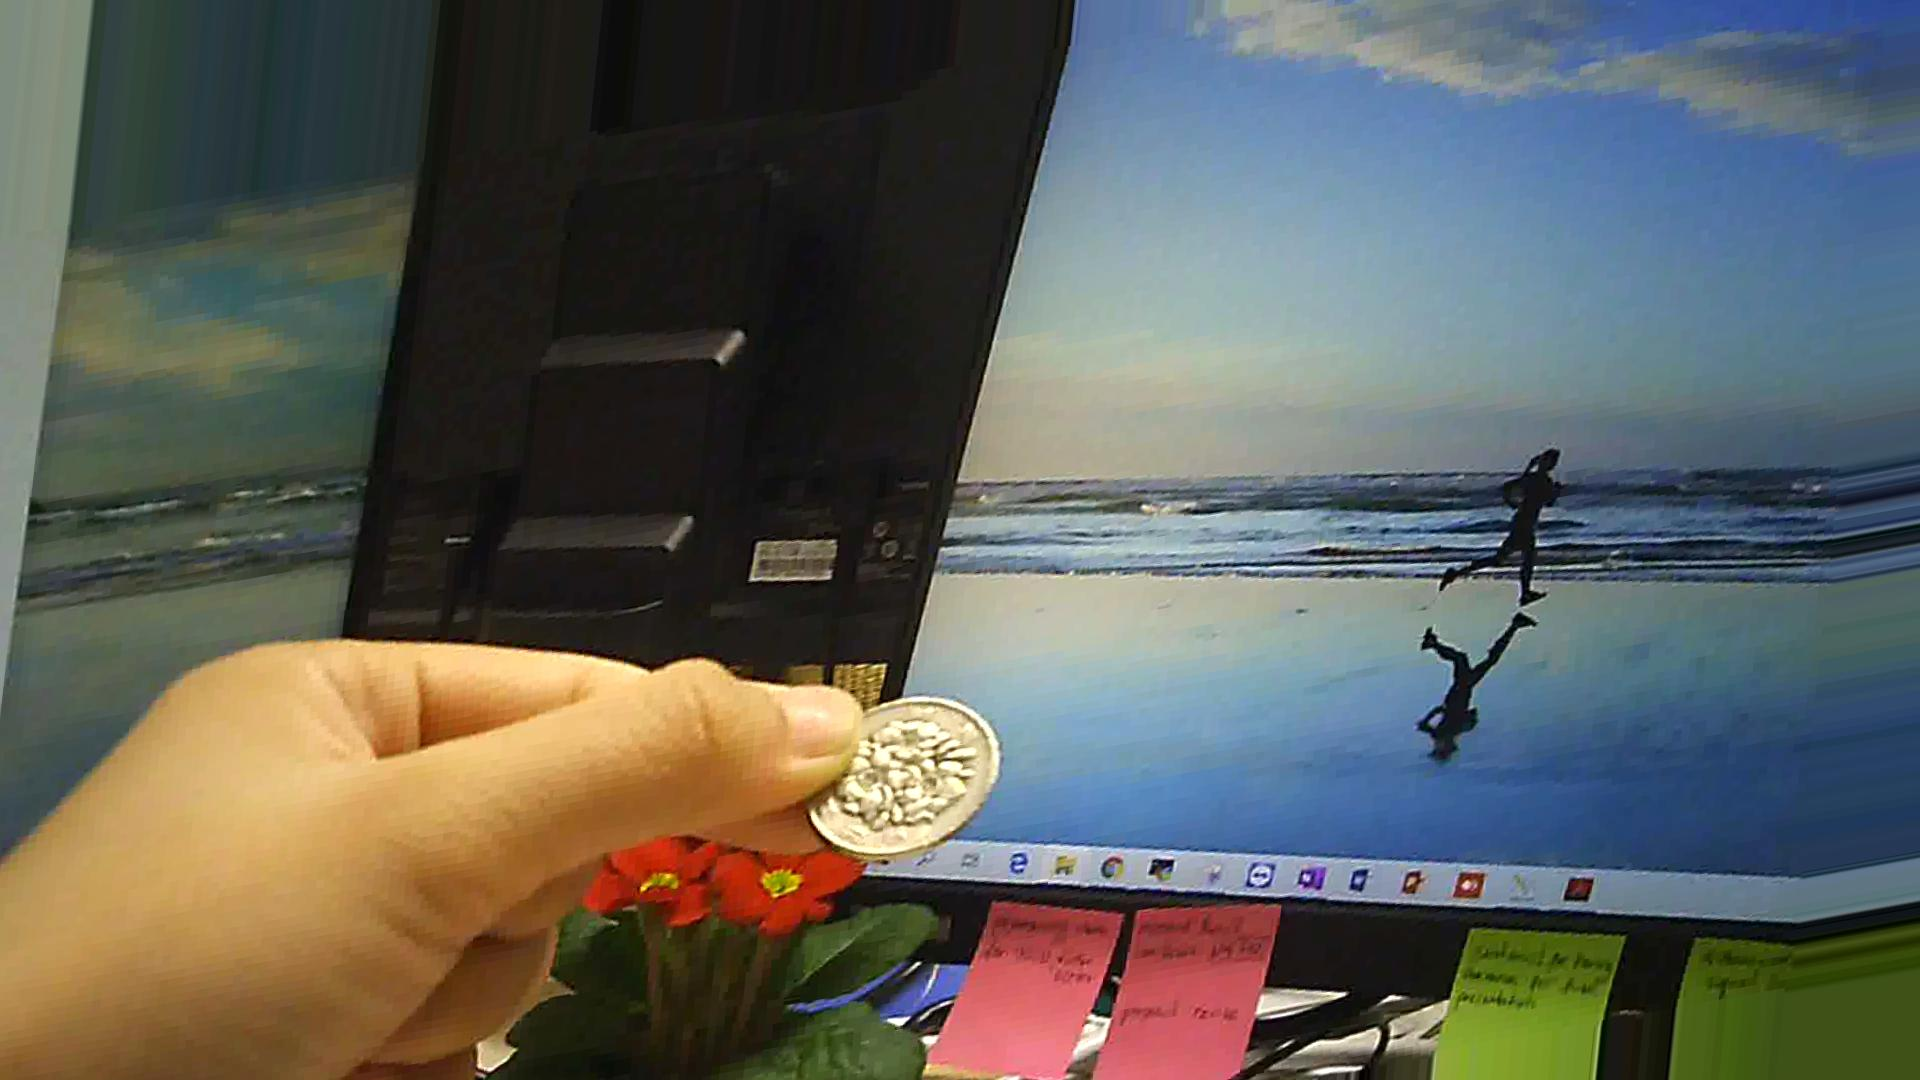100 Yen: (802, 688, 1004, 862)
